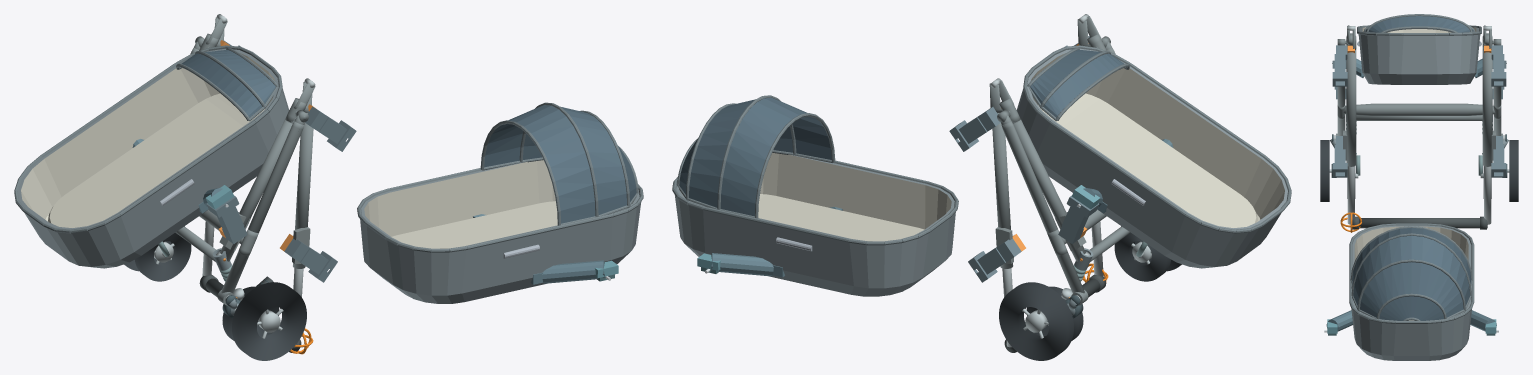
Rendered from D03_w550_state3_wheel_S.glb.
3 renders of one model, left to right at view 1: azimuth 30°, elevation 25°; view 2: azimuth 150°, elevation 25°; view 3: azimuth 270°, elevation 25°, orthographic. The views are drawn at different scales.
Parts seen in each view (by area): view 1: D03_Upper, D03_Lower, RL_tire.004, V46_rear_leg_-1.005, D03_Upper_Mount_H, FR_tire.004, main_lower_-1.005, main_upper_-1.005, Universal_Cabin_Receiver_H_-1, Universal_Cabin_Receiver_M_-1, Universal_Cabin_Receiver_L_-1, D03_Lower_Mount_L; view 2: D03_Upper, D03_Lower, RR_tire.004, V46_rear_leg_1.005, D03_Upper_Mount_H, FL_tire.004, main_lower_1.005, main_upper_1.005, Universal_Cabin_Receiver_H_1, Universal_Cabin_Receiver_M_1, Universal_Cabin_Receiver_L_1, D03_Lower_Mount_L; view 3: D03_Upper, D03_Lower, V46_rearbar.005, main_upper_1.005, main_upper_-1.005, round_handle.004, D03_Upper_Mount_H, front_fixed_round_tube.004, RL_tire.004, RR_tire.004, Universal_Cabin_Receiver_M_-1, Universal_Cabin_Receiver_M_1 (+8 smaller).
Part boxes in pixels (x1,y1,x2,y2): D03_Upper: [357, 102, 643, 303]; D03_Lower: [14, 45, 289, 268]; RL_tire.004: [232, 282, 306, 360]; V46_rear_leg_-1.005: [221, 121, 304, 293]; D03_Upper_Mount_H: [473, 214, 618, 284]; FR_tire.004: [134, 232, 191, 281]; main_lower_-1.005: [220, 117, 296, 261]; main_upper_-1.005: [293, 113, 313, 268]; Universal_Cabin_Receiver_H_-1: [284, 238, 337, 282]; Universal_Cabin_Receiver_M_-1: [305, 106, 356, 151]; Universal_Cabin_Receiver_L_-1: [206, 195, 247, 243]; D03_Lower_Mount_L: [132, 139, 234, 213]; D03_Upper: [672, 95, 958, 296]; D03_Lower: [1016, 45, 1291, 268]; RR_tire.004: [999, 282, 1073, 360]; V46_rear_leg_1.005: [1001, 121, 1084, 293]; D03_Upper_Mount_H: [697, 206, 842, 277]; FL_tire.004: [1114, 232, 1171, 281]; main_lower_1.005: [1009, 117, 1085, 261]; main_upper_1.005: [992, 113, 1013, 268]; Universal_Cabin_Receiver_H_1: [968, 238, 1021, 282]; Universal_Cabin_Receiver_M_1: [949, 107, 1000, 151]; Universal_Cabin_Receiver_L_1: [1058, 195, 1099, 243]; D03_Lower_Mount_L: [1071, 139, 1173, 213]; D03_Upper: [1349, 223, 1474, 360]; D03_Lower: [1357, 14, 1481, 84]; V46_rearbar.005: [1343, 103, 1495, 115]; main_upper_1.005: [1482, 49, 1492, 166]; main_upper_-1.005: [1346, 49, 1356, 166]; round_handle.004: [1359, 218, 1487, 228]; D03_Upper_Mount_H: [1324, 310, 1498, 335]; front_fixed_round_tube.004: [1356, 115, 1482, 120]; RL_tire.004: [1320, 140, 1329, 201]; RR_tire.004: [1509, 140, 1518, 201]; Universal_Cabin_Receiver_M_-1: [1332, 45, 1347, 86]; Universal_Cabin_Receiver_M_1: [1491, 45, 1506, 86].
Size of the model in its own units: 1.7 by 0.747 by 0.641.
